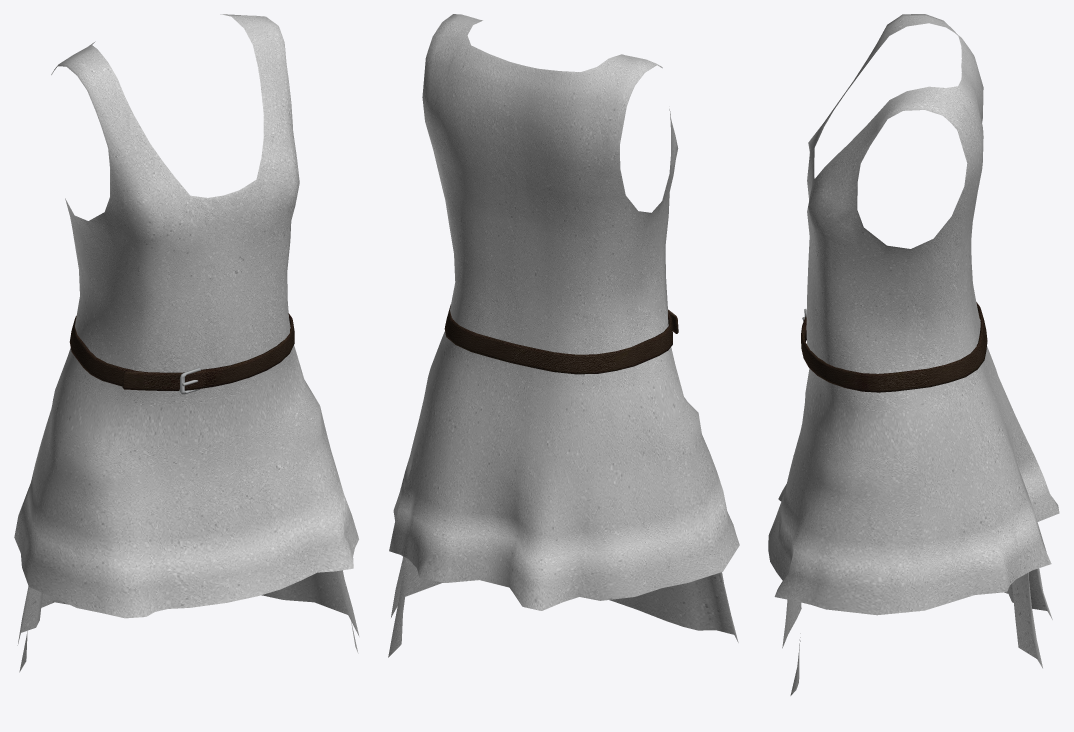
File: dress.glb
The picture shows the model from 3 angles, left to right: view 1: azimuth 30°, elevation 25°; view 2: azimuth 150°, elevation 25°; view 3: azimuth 270°, elevation 25°; orthographic projection. The views are drawn at different scales.
Parts seen in each view (by area): view 1: dress_BubblyDress; view 2: dress_BubblyDress; view 3: dress_BubblyDress.
Boxes of the visible parts, left/top/right/bottom form: dress_BubblyDress: left=14, top=14, right=359, bottom=672; dress_BubblyDress: left=388, top=14, right=739, bottom=657; dress_BubblyDress: left=768, top=14, right=1059, bottom=695.
Bounding box in the file's own units: 4.66 × 8.42 × 3.76.
2 materials, 2 textured.
